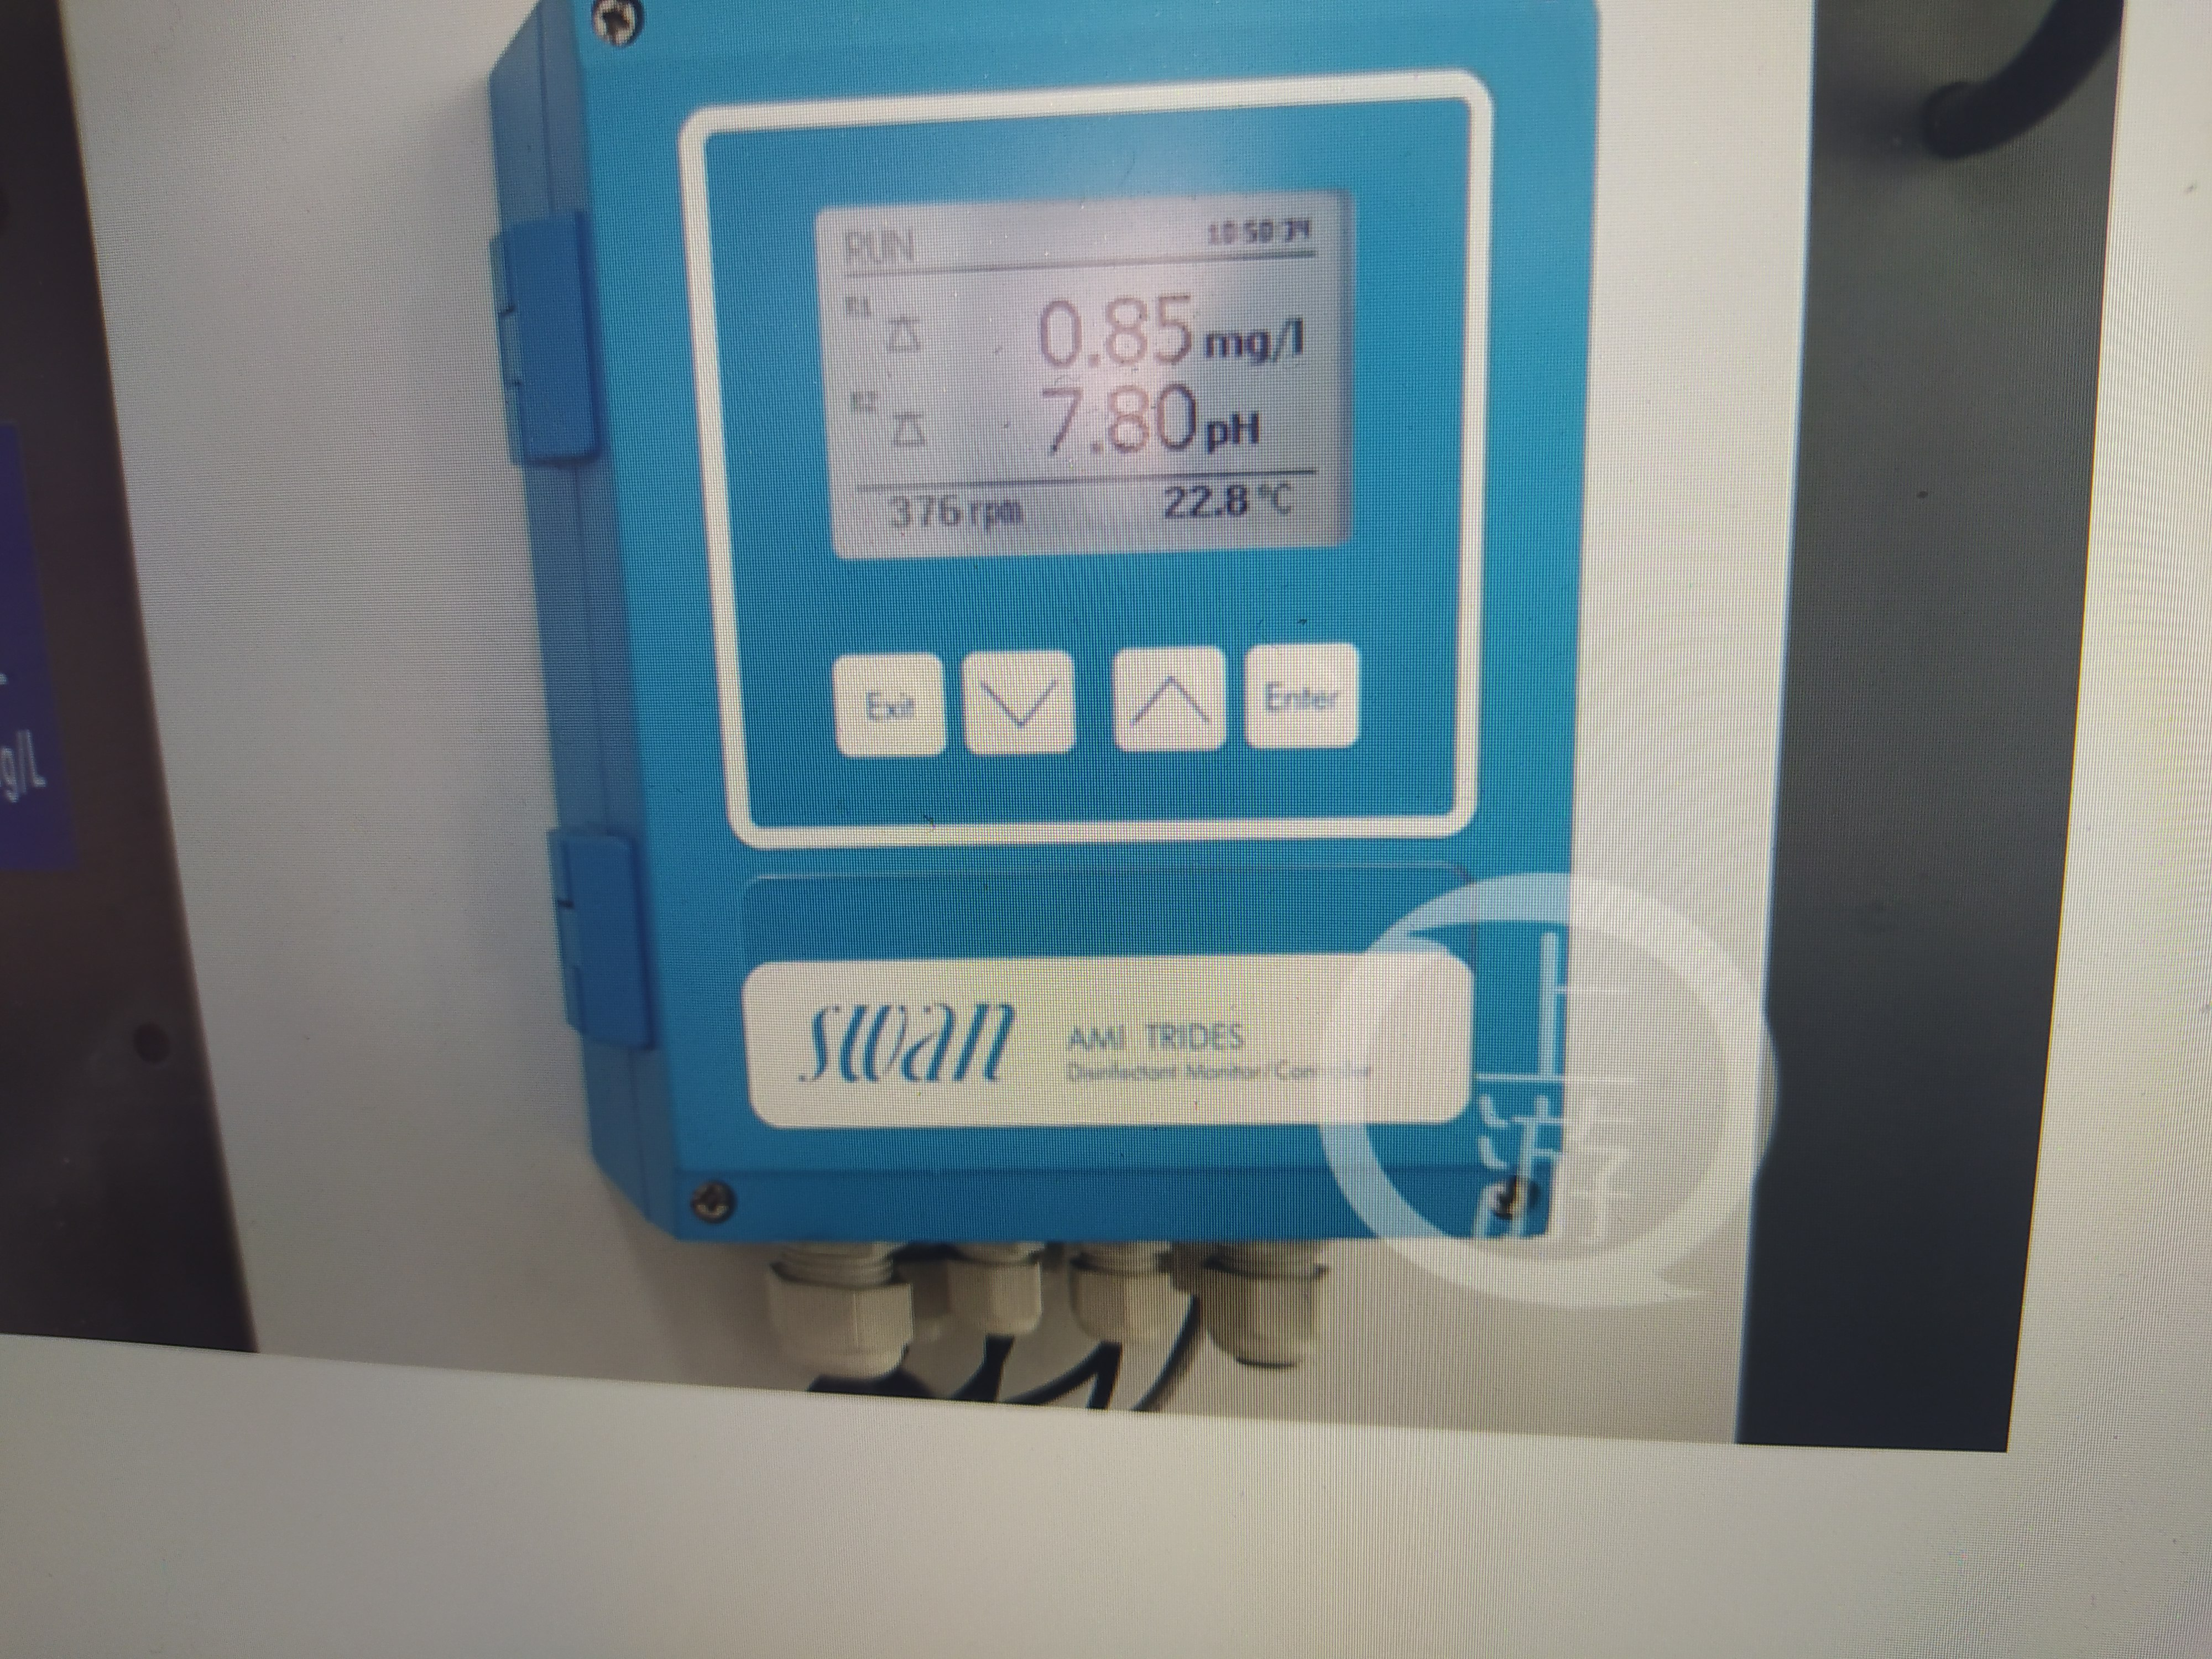.: (1089, 298, 1101, 369), (1214, 484, 1224, 516)
0: (1042, 300, 1082, 369), (1157, 383, 1197, 453), (1090, 389, 1104, 455), (1223, 223, 1237, 244), (1259, 221, 1273, 242)
1: (1207, 225, 1223, 244)
2: (1163, 486, 1186, 519), (1190, 484, 1212, 518)
3: (888, 493, 911, 528), (1280, 221, 1294, 242)
4: (1296, 218, 1310, 240)
5: (1155, 295, 1193, 364), (1244, 221, 1258, 242)
6: (941, 493, 960, 526)
7: (1042, 389, 1082, 455), (916, 493, 935, 526)
8: (1104, 296, 1148, 368), (1108, 385, 1150, 455), (1228, 484, 1249, 516)
